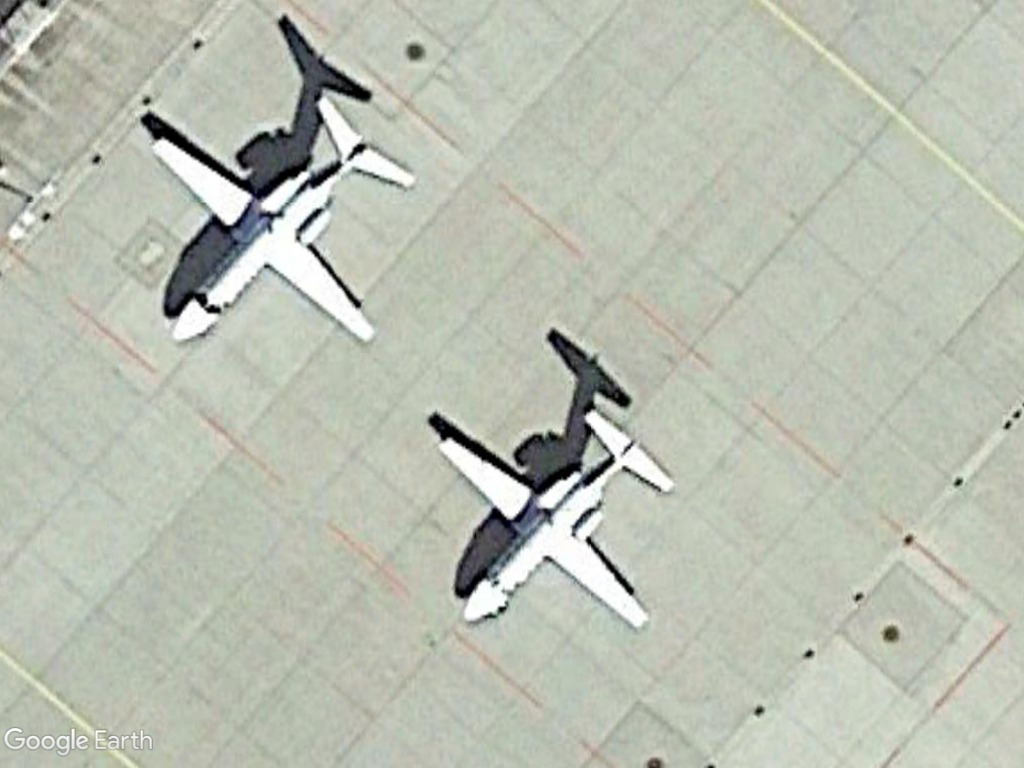chartered: (137, 111, 418, 347), (430, 416, 677, 640)
